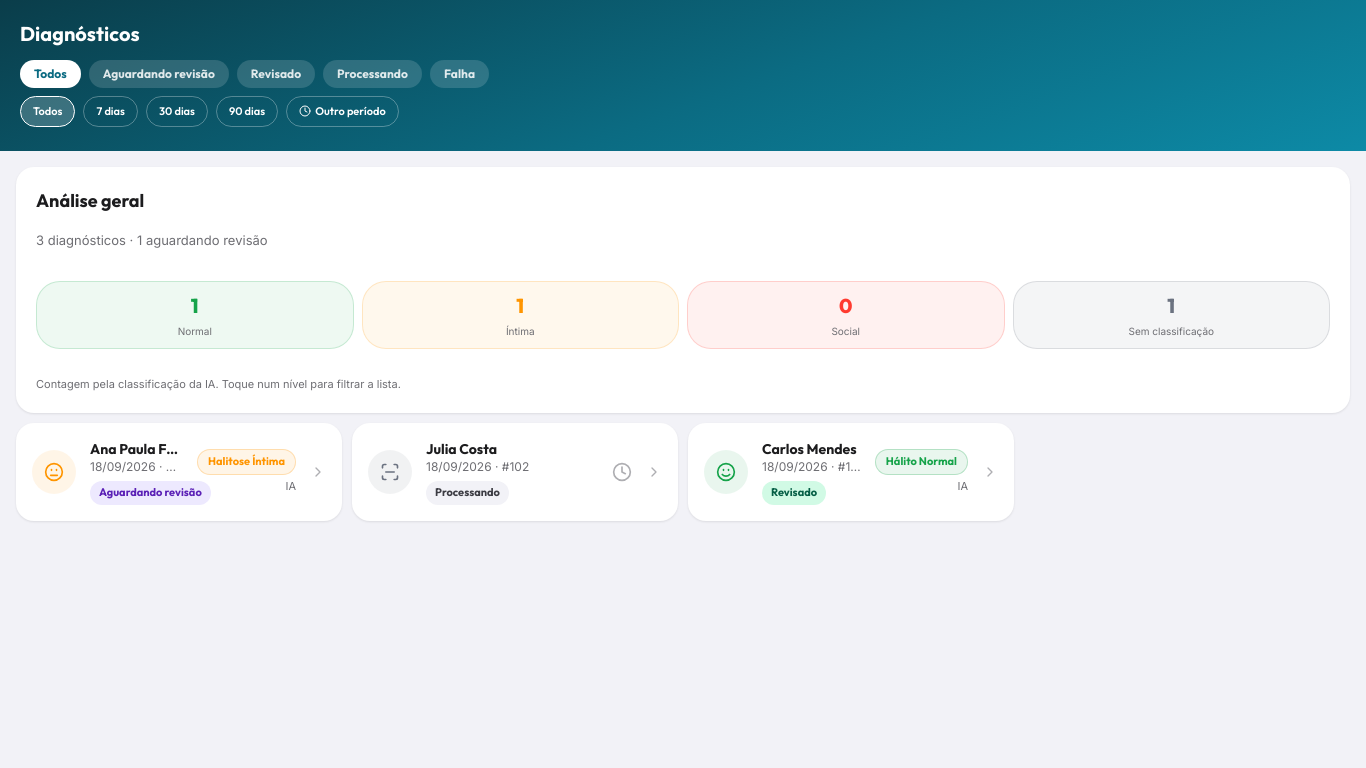
Test: Fila de diagnósticos do admin › filtra por status no servidor
Check: the text "Julia Costa" is shown, box [426,440,497,458]
Click the button "Aguardando revisão": (159, 74) [89,60,229,88]
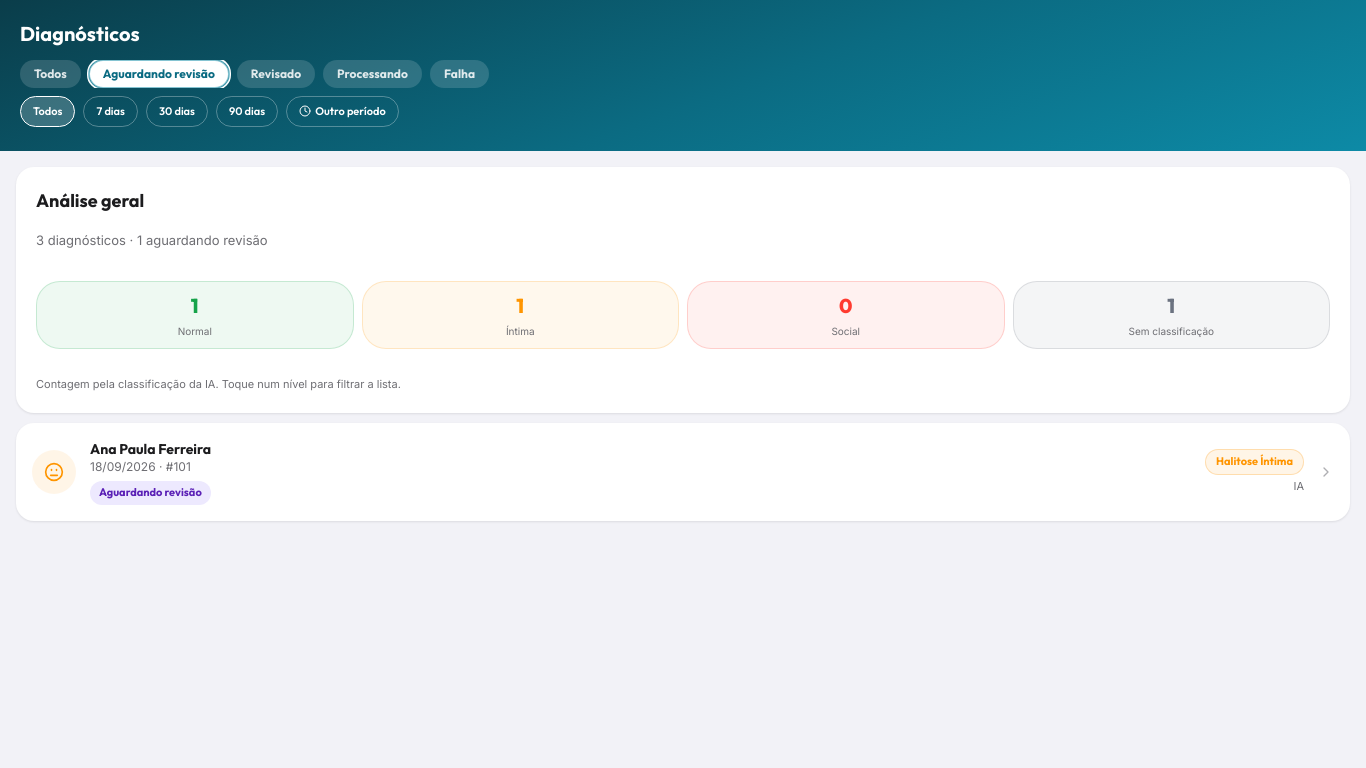
Check: the text "Ana Paula Ferreira" is shown, box [90,440,211,458]
Check: the link "Julia Costa" is gone
